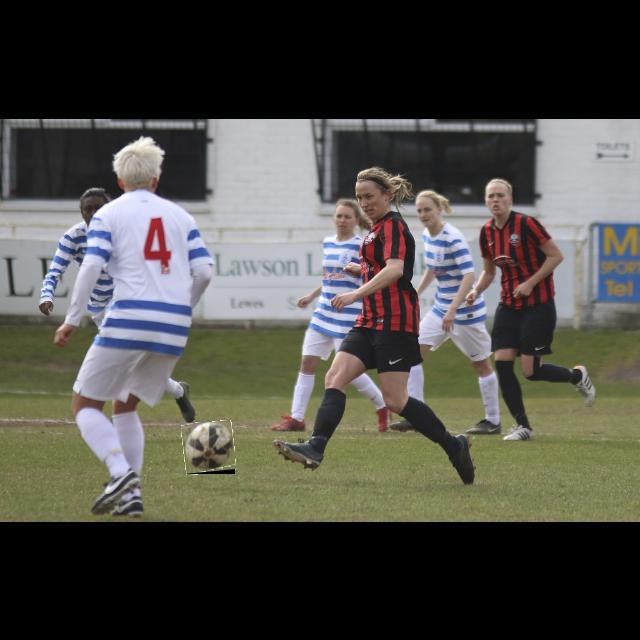Football: (183, 422, 235, 474)
